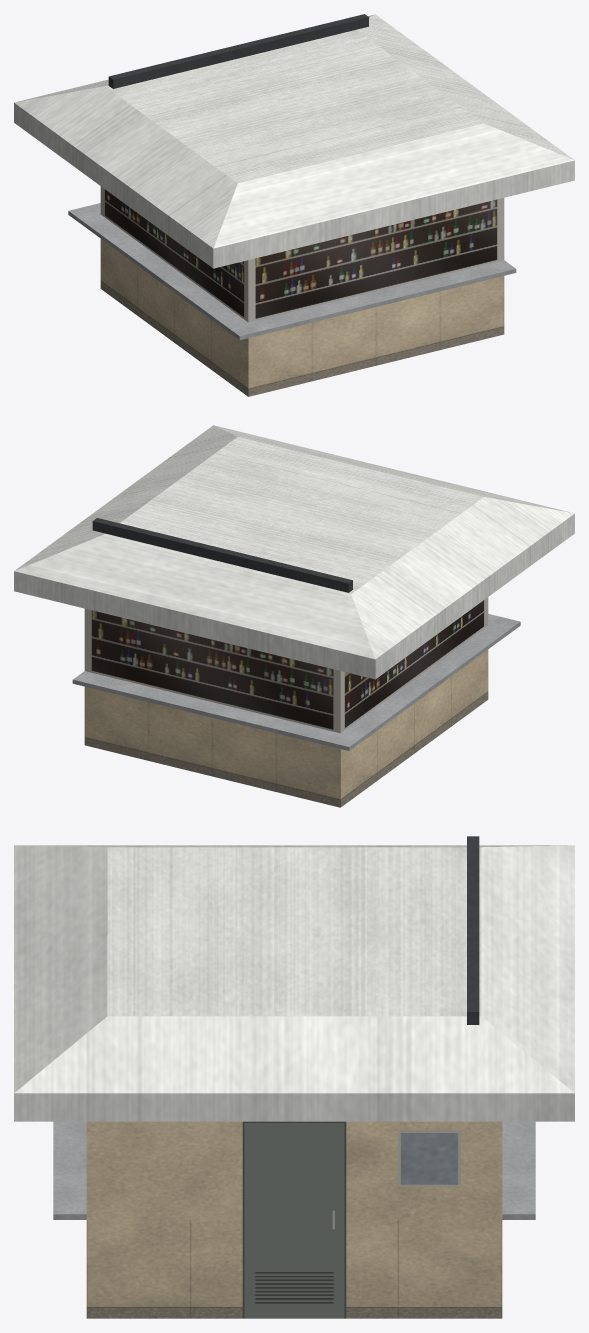
File: SM_Morin_Chiosco_LOD2.fbx
3 views of the same model, one above another, from view 1: azimuth 30°, elevation 25°; view 2: azimuth 150°, elevation 25°; view 3: azimuth 270°, elevation 25° (orthographic). The views are drawn at different scales.
Visible parts, largest first — view 1: SM_Morin_Chiosco_LOD2; view 2: SM_Morin_Chiosco_LOD2; view 3: SM_Morin_Chiosco_LOD2.
Part boxes in pixels (<box>): SM_Morin_Chiosco_LOD2: <box>14,14,574,396</box>; SM_Morin_Chiosco_LOD2: <box>14,425,574,807</box>; SM_Morin_Chiosco_LOD2: <box>14,836,574,1318</box>.
Bounding box in the file's own units: 565 × 540 × 326.
1 material, 1 textured.
